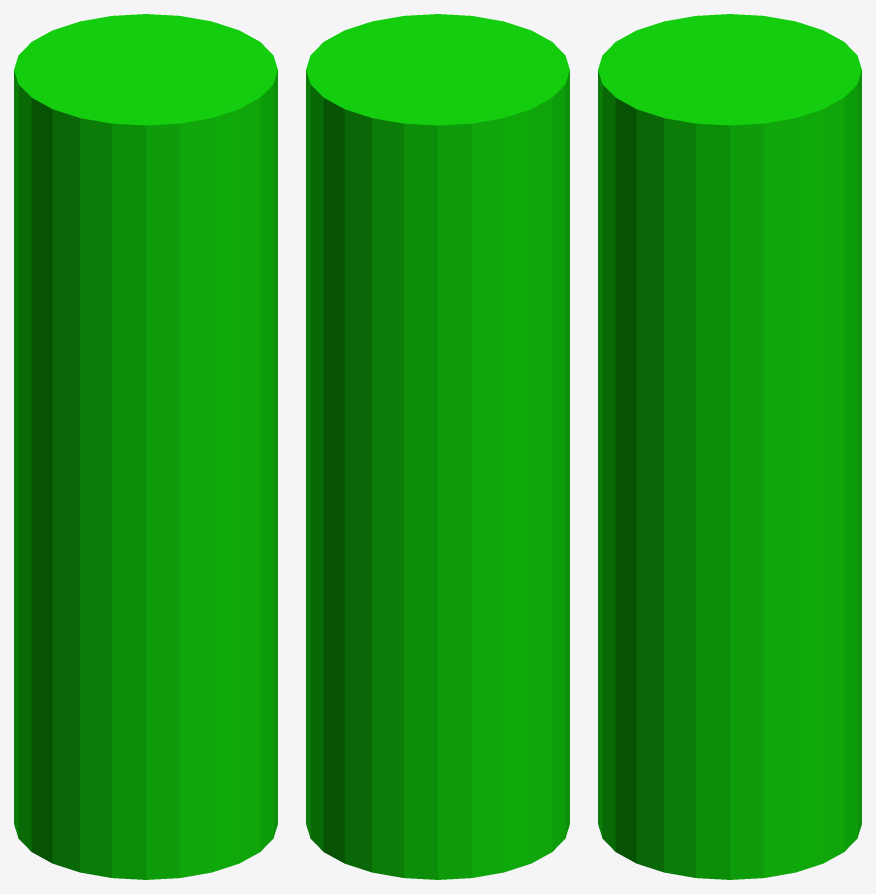
The picture shows the model from 3 angles, left to right: view 1: azimuth 30°, elevation 25°; view 2: azimuth 150°, elevation 25°; view 3: azimuth 270°, elevation 25°; orthographic projection.
Visible parts, largest first — view 1: Cylinder.002; view 2: Cylinder.002; view 3: Cylinder.002.
Boxes of the visible parts, x1=… form: Cylinder.002: x1=14, y1=14, x2=277, y2=879; Cylinder.002: x1=306, y1=14, x2=569, y2=879; Cylinder.002: x1=598, y1=14, x2=861, y2=879.
Size of the model in its own units: 731 by 2305 by 731.
